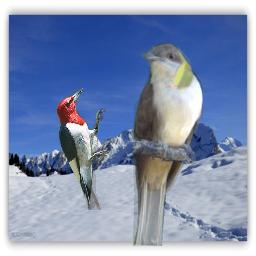Cuckoo: (129, 43, 203, 246)
Woodpecker: (56, 88, 107, 210)
